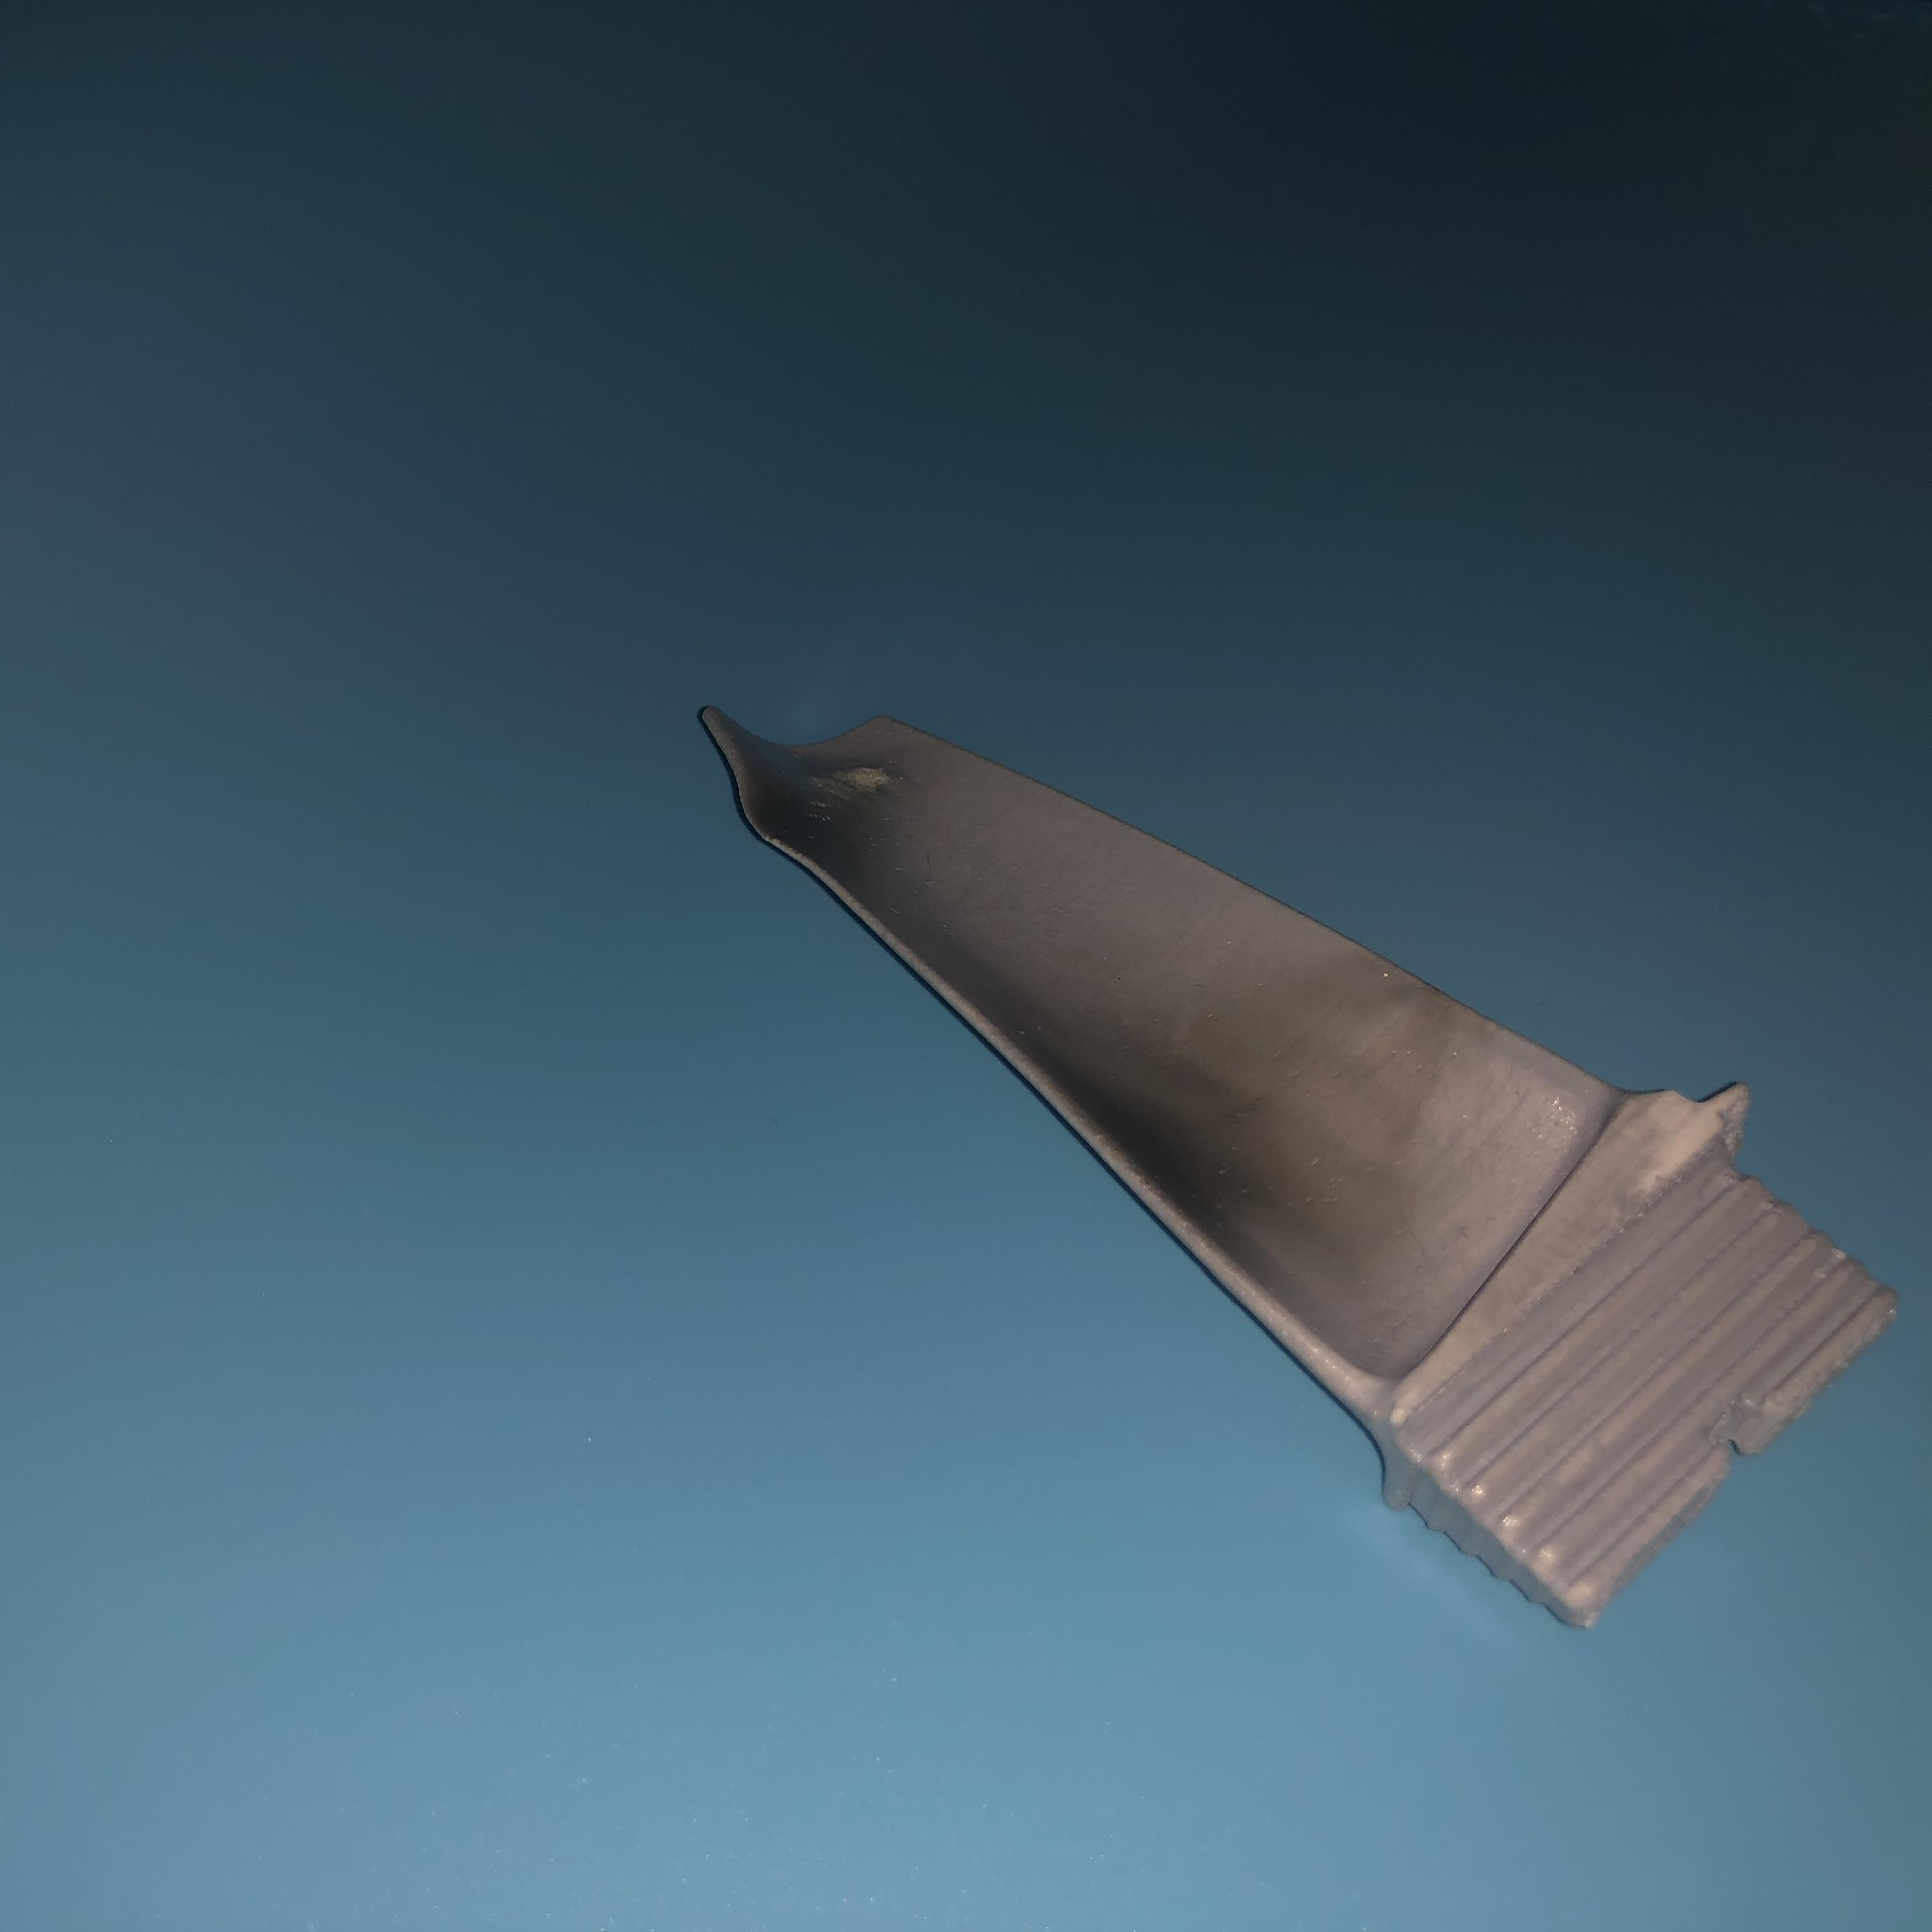ablation: (1077, 985, 1456, 1237), (724, 750, 915, 872)
